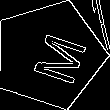M_W: (17, 25, 82, 85)
